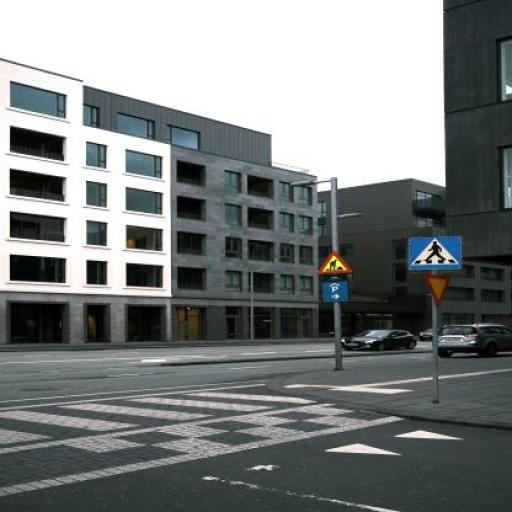street light: (288, 176, 345, 372)
